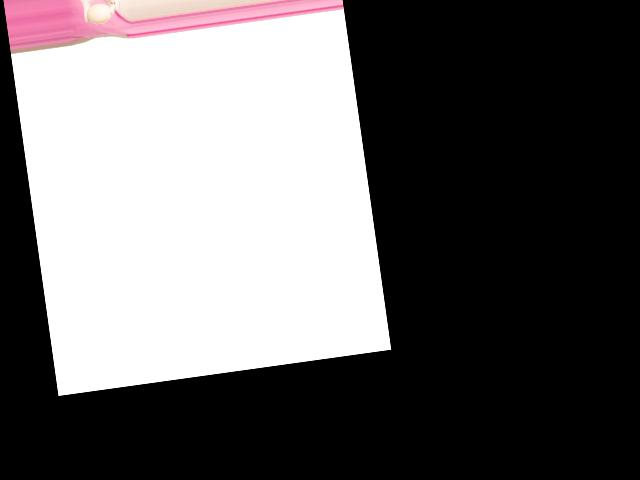egg: (85, 1, 113, 25)
